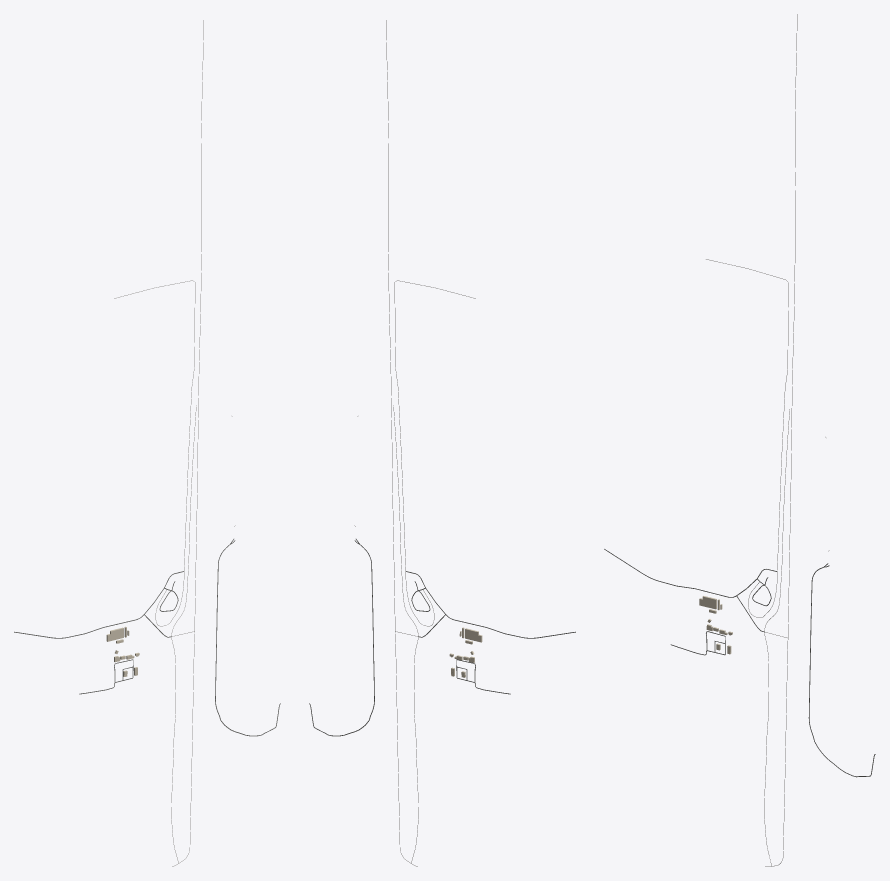
Rendered from aqaba_3497_2955.glb.
3 views of the same model, side by side, from view 1: azimuth 30°, elevation 25°; view 2: azimuth 150°, elevation 25°; view 3: azimuth 330°, elevation 25° (orthographic).
Parts seen in each view (by area): view 1: Road .013; view 2: Road .013; view 3: Road .013.
Part boxes in pixels (bbox=[...]): Road .013: bbox=[172, 20, 203, 866]; Road .013: bbox=[386, 20, 417, 866]; Road .013: bbox=[765, 14, 797, 866].
Size of the model in its own units: 1163 by 3518 by 8.7.
